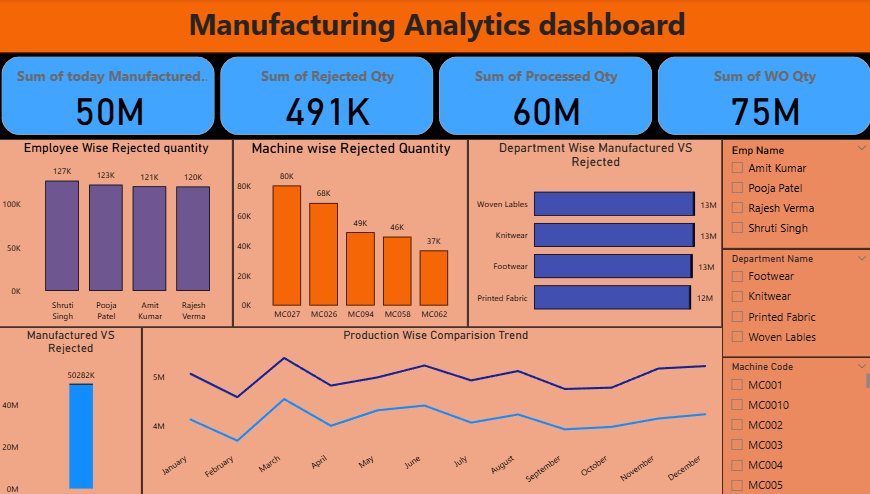

The page's visual inventory and layout, read from the dashboard file:
{"tool":"powerbi","page":{"name":"Page 1","canvas":[1280,720],"ordinal":0},"visuals":[{"type":"cardVisual","title":"Manufacturing Quantity","fields":{"Data":["Sum(Sheet1.today Manufactured qty)","Sum(Sheet1.Rejected Qty)","Sum(Sheet1.Processed Qty)","Sum(Sheet1.WO Qty)"]},"box":[15.8,77.8,1264.3,123.8],"z":0},{"type":"clusteredColumnChart","title":"Employee Wise Rejected quantity","fields":{"Category":["Sheet1.Emp Name"],"Y":["Sum(Sheet1.Rejected Qty)"]},"box":[15.8,201.6,338.4,270.7],"z":1000},{"type":"clusteredColumnChart","title":"Machine wise Rejected Quantity","fields":{"Category":["Sheet1.Machine Code"],"Y":["Sum(Sheet1.Rejected Qty)"]},"box":[354.2,201.6,338.4,270.7],"z":2000},{"type":"columnChart","title":"Manufactured VS Rejected ","fields":{"Y":["Sum(Sheet1.today Manufactured qty)","Sum(Sheet1.Rejected Qty)"]},"box":[15.8,472.3,207.4,247.7],"z":3000},{"type":"barChart","title":"Department Wise Manufactured VS Rejected","fields":{"Category":["Sheet1.Department Name"],"Y":["Sum(Sheet1.today Manufactured qty)","Sum(Sheet1.Rejected Qty)"]},"box":[692.6,201.6,365.8,270.7],"z":4000},{"type":"lineChart","title":"Production Wise Comparision Trend","fields":{"Category":["Sheet1.Doc Date.Variation.Date Hierarchy.Month"],"Y":["Sum(Sheet1.today Manufactured qty)","Sum(Sheet1.Processed Qty)"]},"box":[223.2,472.3,843.8,247.7],"z":5000},{"type":"textbox","box":[15.8,0,1264.3,77.8],"z":6000},{"type":"slicer","fields":{"Values":["Sheet1.Emp Name"]},"box":[1058.4,201.6,221.8,158.4],"z":7000},{"type":"slicer","fields":{"Values":["Sheet1.Department Name"]},"box":[1058.4,360,221.8,155.5],"z":8000},{"type":"slicer","fields":{"Values":["Sheet1.Machine Code"]},"box":[1058.4,515.5,221.8,204.5],"z":9000}]}

Visuals, with their boxes in screenshot pixels (x1, y1, x2, y2), scaled from the page's 1280x720 canvas onto the 870x494 screenshot:
"Manufacturing Quantity" cardVisual: (x1=11, y1=53, x2=869, y2=138)
"Employee Wise Rejected quantity" clusteredColumnChart: (x1=11, y1=138, x2=241, y2=324)
"Machine wise Rejected Quantity" clusteredColumnChart: (x1=241, y1=138, x2=471, y2=324)
"Manufactured VS Rejected " columnChart: (x1=11, y1=324, x2=152, y2=493)
"Department Wise Manufactured VS Rejected" barChart: (x1=471, y1=138, x2=719, y2=324)
"Production Wise Comparision Trend" lineChart: (x1=152, y1=324, x2=725, y2=493)
textbox: (x1=11, y1=0, x2=869, y2=53)
slicer - Sheet1.Emp Name: (x1=719, y1=138, x2=869, y2=247)
slicer - Sheet1.Department Name: (x1=719, y1=247, x2=869, y2=354)
slicer - Sheet1.Machine Code: (x1=719, y1=354, x2=869, y2=493)
